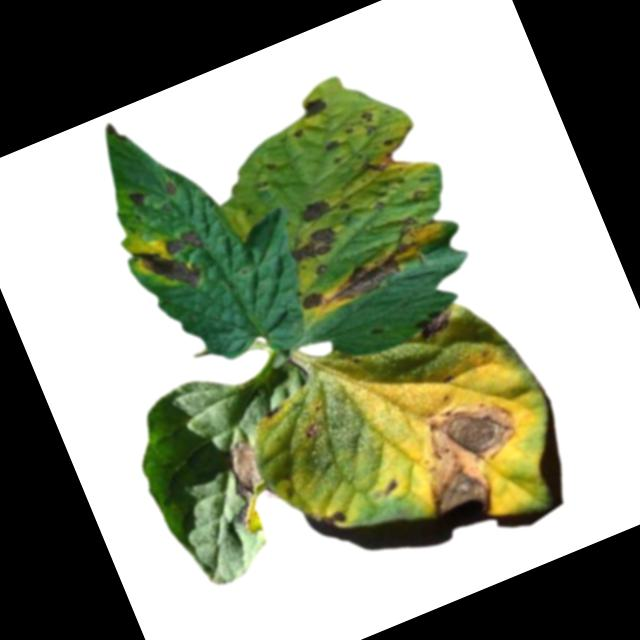Early_blight: (396, 381, 550, 535), (317, 229, 426, 308), (214, 436, 285, 536), (135, 232, 203, 300), (284, 222, 344, 269), (303, 496, 349, 535), (413, 304, 460, 342), (162, 224, 205, 260), (296, 191, 338, 226), (358, 147, 399, 179), (296, 91, 331, 119), (297, 286, 327, 312), (378, 472, 405, 496), (302, 416, 325, 441), (126, 186, 150, 207), (161, 177, 180, 198), (358, 106, 378, 124)
